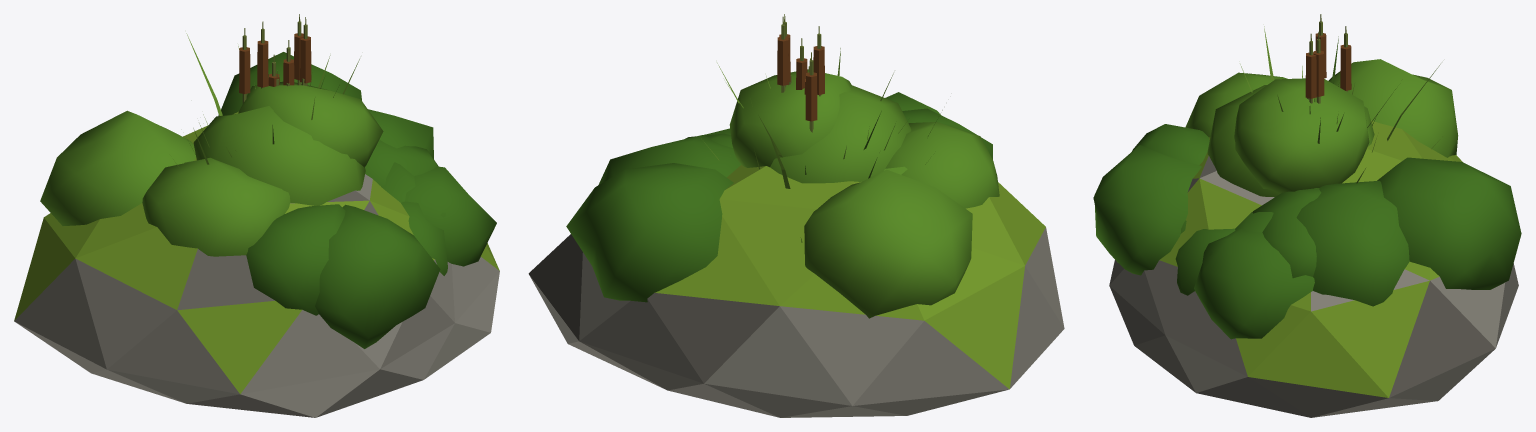
The model's file is swamp_props.glb.
The picture shows the model from 3 angles, left to right: view 1: azimuth 30°, elevation 25°; view 2: azimuth 150°, elevation 25°; view 3: azimuth 270°, elevation 25°; orthographic projection. The views are drawn at different scales.
Parts seen in each view (by area): view 1: Bush2, Rock2, Bush1, Cattail2, Cattail1; view 2: Rock2, Bush2, Cattail2, Cattail1; view 3: Bush2, Rock2, Bush1, Cattail2, Cattail1.
Boxes of the visible parts, x1,y1,x2,y2 form: Bush2: (40,52,496,348); Rock2: (14,111,499,417); Bush1: (381,162,447,275); Cattail2: (173,14,303,167); Cattail1: (189,17,359,154); Rock2: (528,165,1064,417); Bush2: (566,69,999,318); Cattail2: (768,16,942,188); Cattail1: (701,14,881,178); Bush2: (1093,59,1521,339); Rock2: (1109,120,1518,417); Bush1: (1175,212,1273,295); Cattail2: (1264,26,1440,140); Cattail1: (1305,14,1376,183).
Size of the model in its own units: 3.64 by 2.31 by 2.99.
